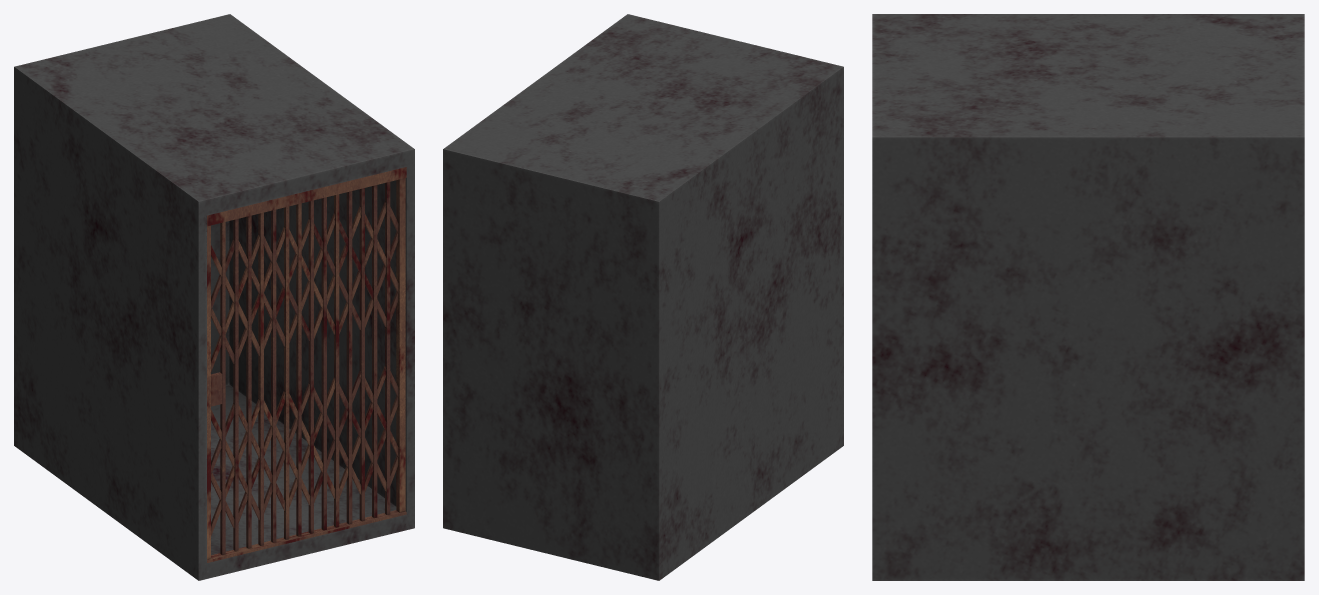
Rendered from lift.fbx.
3 views of the same model, side by side, from view 1: azimuth 30°, elevation 25°; view 2: azimuth 150°, elevation 25°; view 3: azimuth 270°, elevation 25° (orthographic). The views are drawn at different scales.
Parts seen in each view (by area): view 1: Elavator, Liftdoor; view 2: Elavator; view 3: Elavator.
Part boxes in pixels (x1,y1,x2,y2): Elavator: (14, 14, 414, 580); Liftdoor: (207, 167, 406, 562); Elavator: (443, 14, 843, 580); Elavator: (872, 14, 1304, 580).
Size of the model in its own units: 186 by 312 by 275.
2 materials, 2 textured.
